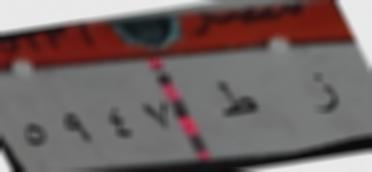4: (104, 102, 135, 145)
5: (22, 114, 50, 154)
7: (138, 91, 174, 136)
9: (61, 107, 96, 154)
Taa: (210, 76, 266, 123)
zay: (304, 68, 348, 123)
